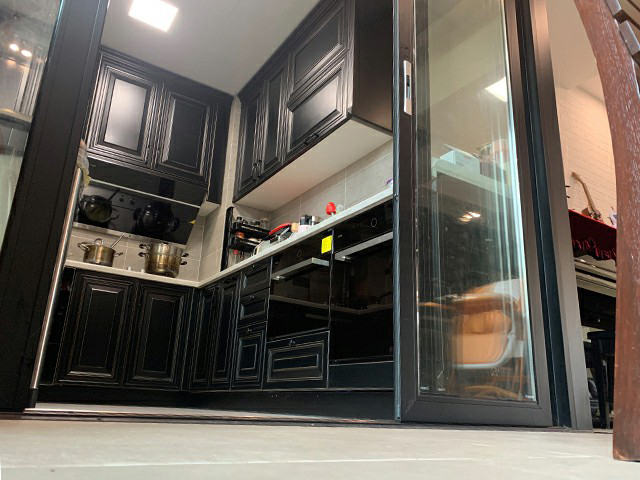cabinet: (198, 193, 396, 416), (39, 252, 197, 401)
